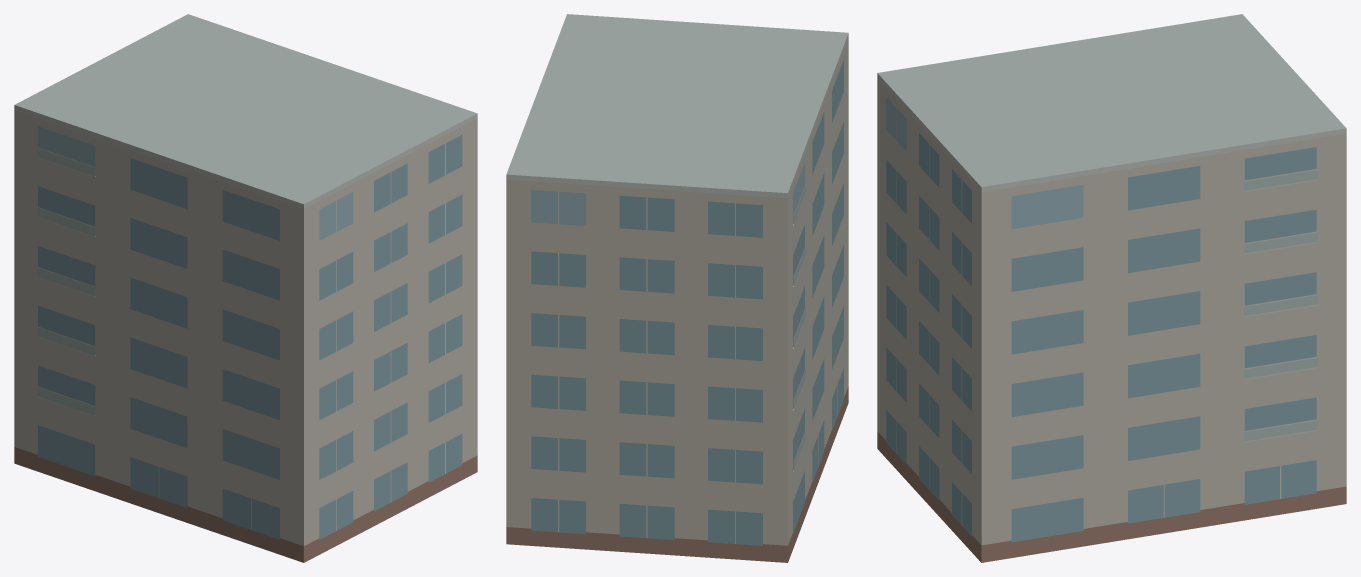
File: survey-upis-32988222.glb
3 views of the same model, side by side, from view 1: azimuth 30°, elevation 25°; view 2: azimuth 150°, elevation 25°; view 3: azimuth 270°, elevation 25° (orthographic). The views are drawn at different scales.
Visible parts, largest first — view 1: survey-upis-32988222.tmp; view 2: survey-upis-32988222.tmp; view 3: survey-upis-32988222.tmp.
Boxes of the visible parts, x1,y1,x2,y2 form: survey-upis-32988222.tmp: [14, 14, 477, 562]; survey-upis-32988222.tmp: [506, 14, 848, 562]; survey-upis-32988222.tmp: [877, 14, 1346, 562].
Bounding box in the file's own units: 17.21 × 17.4 × 19.7.
